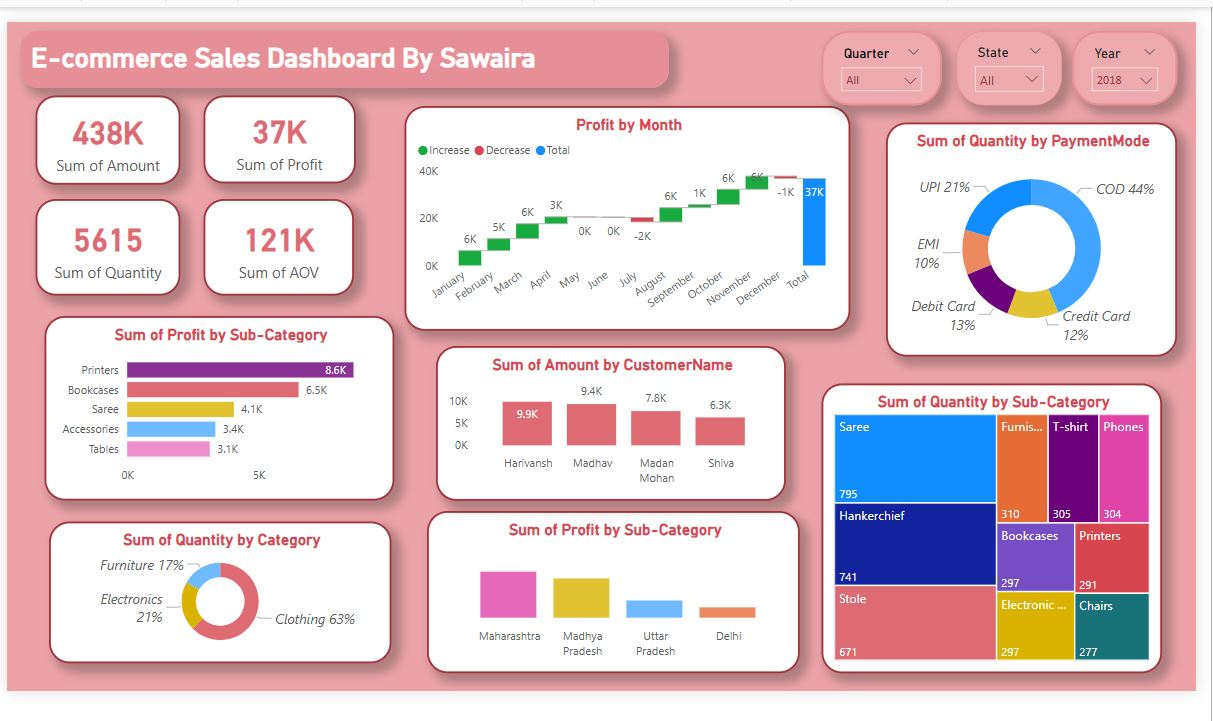

This screenshot's page, from the dashboard's own definition file:
{"tool":"powerbi","page":{"name":"Sales","canvas":[1280,720],"ordinal":0},"visuals":[{"type":"textbox","box":[14.2,9.5,697.8,61.4],"z":0},{"type":"waterfallChart","title":"Profit by Month","fields":{"Category":["Orders.Order Date.Variation.Date Hierarchy.Month"],"Y":["Sum(Details.Profit)"]},"box":[428.3,90,480,241.7],"z":1000},{"type":"clusteredBarChart","title":"Sum of Profit by Sub-Category","fields":{"Y":["Sum(Details.Profit)"],"Category":["Details.Sub-Category"]},"box":[41,316.6,376.4,198.5],"z":2000},{"type":"pieChart","fields":{"Category":["Details.Category"],"Y":["Sum(Details.Quantity)"]},"box":[45.7,537.1,368.6,152.8],"z":3000},{"type":"pieChart","fields":{"Y":["Sum(Details.Quantity)"],"Series":["Details.PaymentMode"]},"box":[946.6,108.7,313.4,252],"z":4000},{"type":"card","fields":{"Values":["Sum(Details.Amount)"]},"box":[29.9,78.8,155.9,96.1],"z":5000},{"type":"card","fields":{"Values":["Sum(Details.Profit)"]},"box":[211.1,78.8,163.8,94.5],"z":6000},{"type":"card","fields":{"Values":["Sum(Details.Quantity)"]},"box":[29.9,190.6,155.9,104],"z":7000},{"type":"card","fields":{"Values":["Sum(Details.AvgOrderVal)"]},"box":[211.1,190.6,162.2,104],"z":8000},{"type":"columnChart","title":"Sum of Profit by Sub-Category","fields":{"Category":["Orders.State"],"Y":["Sum(Details.Amount)"]},"box":[452,526.1,401.6,174.8],"z":9000},{"type":"columnChart","fields":{"Category":["Orders.CustomerName"],"Y":["Sum(Details.Amount)"]},"box":[461.5,348.1,376.4,167],"z":10000},{"type":"slicer","fields":{"Values":["Orders.Order Date.Variation.Date Hierarchy.Quarter"]},"box":[877.3,9.5,129.2,80.3],"z":11000},{"type":"slicer","fields":{"Values":["Orders.State"]},"box":[1022.2,9.5,113.4,80.3],"z":12000},{"type":"treemap","fields":{"Values":["Sum(Details.Quantity)"],"Group":["Details.Sub-Category"]},"box":[877.3,389,367,311.9],"z":13000},{"type":"slicer","fields":{"Values":["Orders.Order Date.Variation.Date Hierarchy.Year"]},"box":[1146.7,9.5,113.4,80.3],"z":14000}]}

Visuals, with their boxes in screenshot pixels (x1, y1, x2, y2):
textbox: l=13, t=25, r=665, b=82
"Profit by Month" waterfallChart: l=400, t=100, r=849, b=326
"Sum of Profit by Sub-Category" clusteredBarChart: l=38, t=312, r=390, b=497
pieChart - Details.Category x Sum(Details.Quantity): l=43, t=518, r=387, b=661
pieChart - Sum(Details.Quantity) x Details.PaymentMode: l=885, t=117, r=1178, b=353
card - Sum(Details.Amount): l=28, t=89, r=174, b=179
card - Sum(Details.Profit): l=197, t=89, r=350, b=178
card - Sum(Details.Quantity): l=28, t=194, r=174, b=291
card - Sum(Details.AvgOrderVal): l=197, t=194, r=349, b=291
"Sum of Profit by Sub-Category" columnChart: l=422, t=507, r=798, b=671
columnChart - Orders.CustomerName x Sum(Details.Amount): l=431, t=341, r=783, b=497
slicer - Orders.Order Date.Variation.Date Hierarchy.Quarter: l=820, t=25, r=941, b=100
slicer - Orders.State: l=955, t=25, r=1061, b=100
treemap - Sum(Details.Quantity) x Details.Sub-Category: l=820, t=379, r=1163, b=671
slicer - Orders.Order Date.Variation.Date Hierarchy.Year: l=1072, t=25, r=1178, b=100
